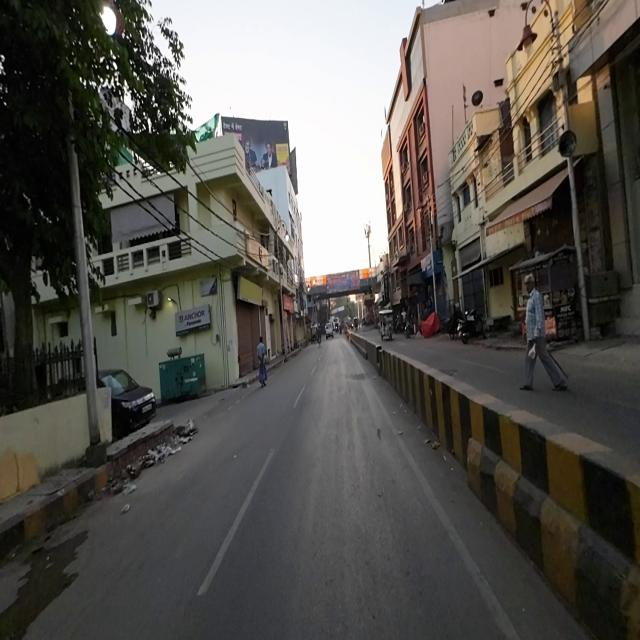Garbage: (136, 439, 176, 468), (177, 416, 197, 445)
